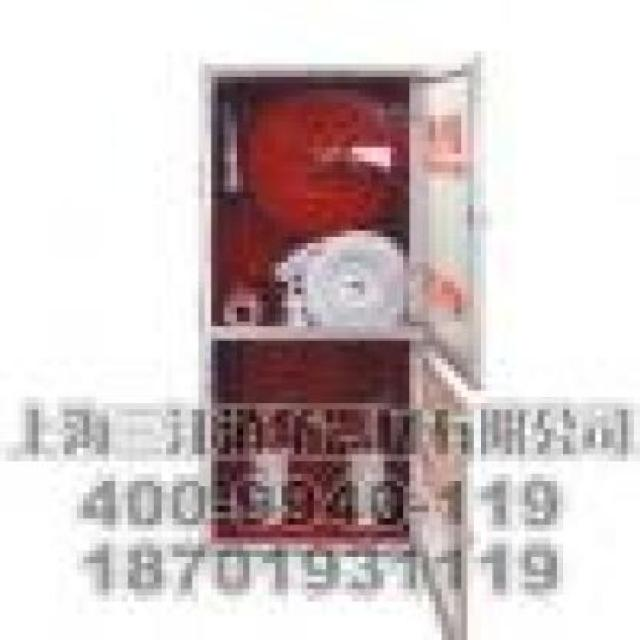firehydrant: (188, 43, 497, 640)
